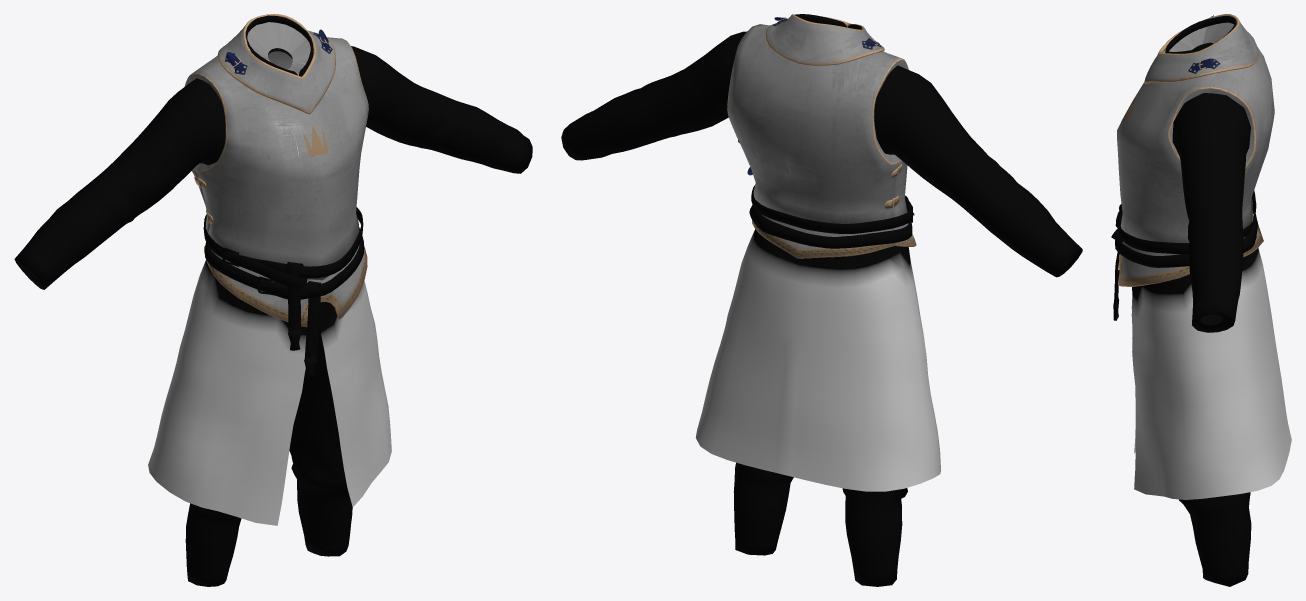
File: swan_knight_armor_2a_t1.fbx
3 views of the same model, side by side, from view 1: azimuth 30°, elevation 25°; view 2: azimuth 150°, elevation 25°; view 3: azimuth 270°, elevation 25° (orthographic). The views are drawn at different scales.
Parts seen in each view (by area): view 1: swan_knight_armor_2a_t1.0, swan_knight_armor_2a_t1.1; view 2: swan_knight_armor_2a_t1.0, swan_knight_armor_2a_t1.1; view 3: swan_knight_armor_2a_t1.0, swan_knight_armor_2a_t1.1.
Boxes of the visible parts, bbox=[...] form: swan_knight_armor_2a_t1.0: bbox=[14, 15, 532, 586]; swan_knight_armor_2a_t1.1: bbox=[184, 14, 368, 327]; swan_knight_armor_2a_t1.0: bbox=[561, 14, 1082, 586]; swan_knight_armor_2a_t1.1: bbox=[727, 14, 916, 258]; swan_knight_armor_2a_t1.0: bbox=[1111, 16, 1291, 586]; swan_knight_armor_2a_t1.1: bbox=[1117, 14, 1274, 286].
Size of the model in its own units: 1.34 by 0.424 by 1.37.
